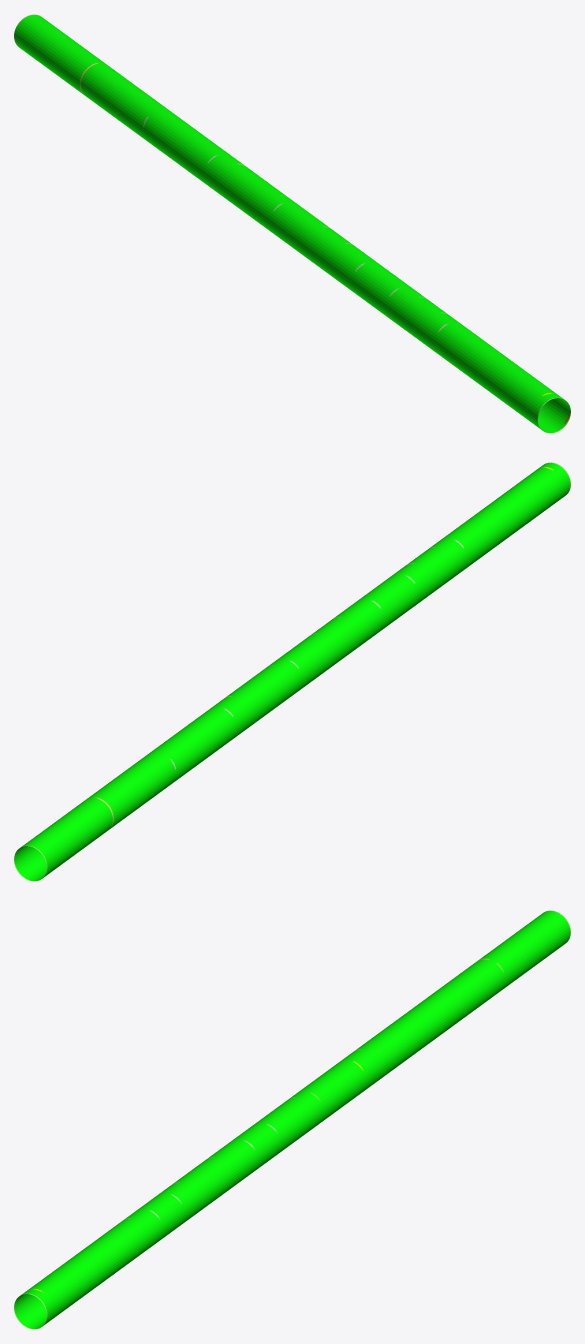
3 views of the same model, one above another, from view 1: azimuth 30°, elevation 25°; view 2: azimuth 150°, elevation 25°; view 3: azimuth 330°, elevation 25° (orthographic).
Size of the model in its own units: 2 by 2 by 55.
1 material, 1 textured.
